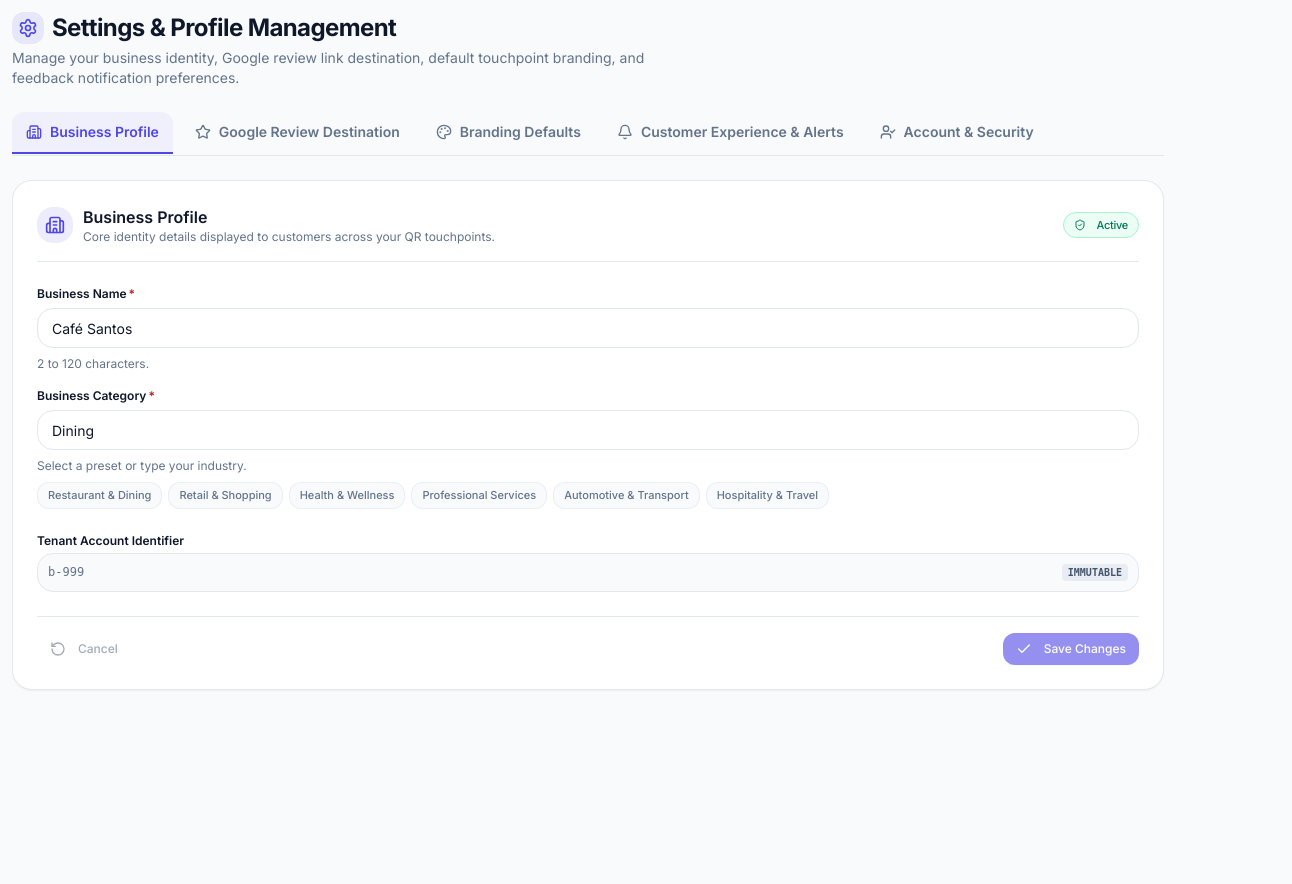
Test: SettingsContainer Component › switches between tabs and renders corresponding sections
Expected: the field showing "Café Santos" is shown, [37,308,1139,348]
# Switch to Reviews tab
Click the tab "Google Review Destination". click: click(297, 133)
box: [181,112,414,154]
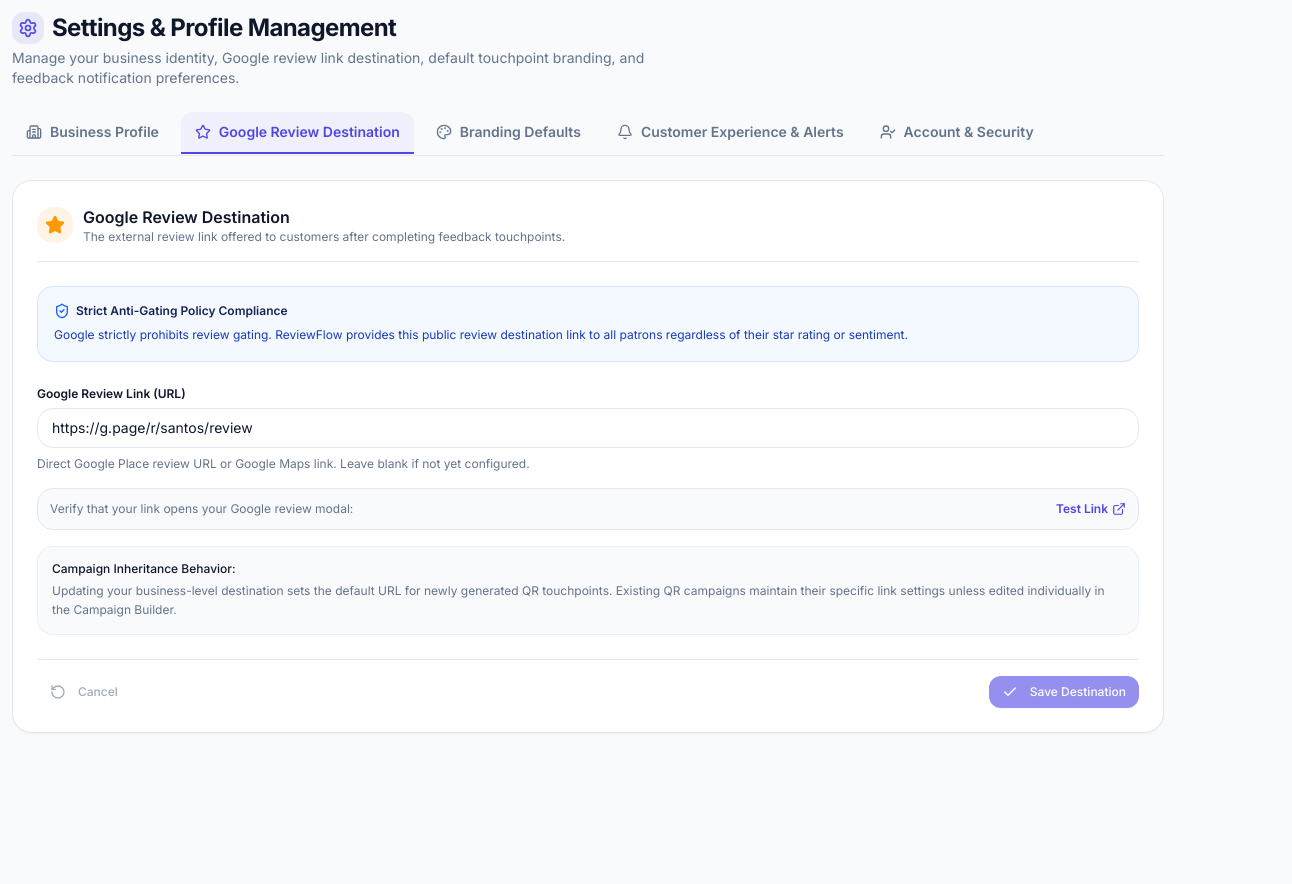
Expected: the field showing "https://g.page/r/santos/review" is shown, [37,408,1139,448]
# Switch to Branding tab
Click the tab "Branding Defaults". click: click(508, 133)
box: [422,112,595,154]
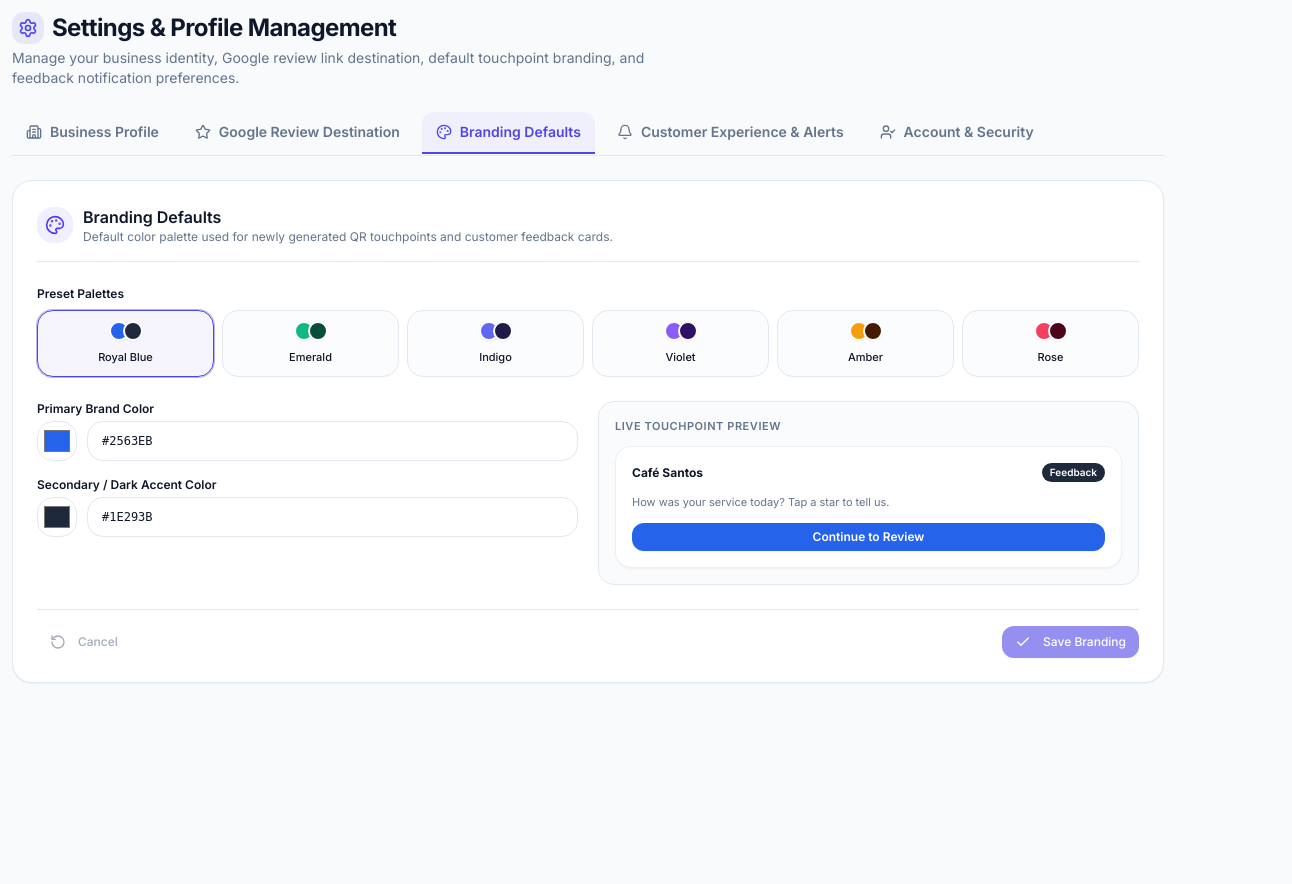
Expected: the field showing "#2563EB" below "Primary Brand Color" is shown, [87,420,578,460]
# Switch to Notifications tab
Click the tab "Customer Experience & Alerts". click: click(730, 133)
box: [603,112,858,154]
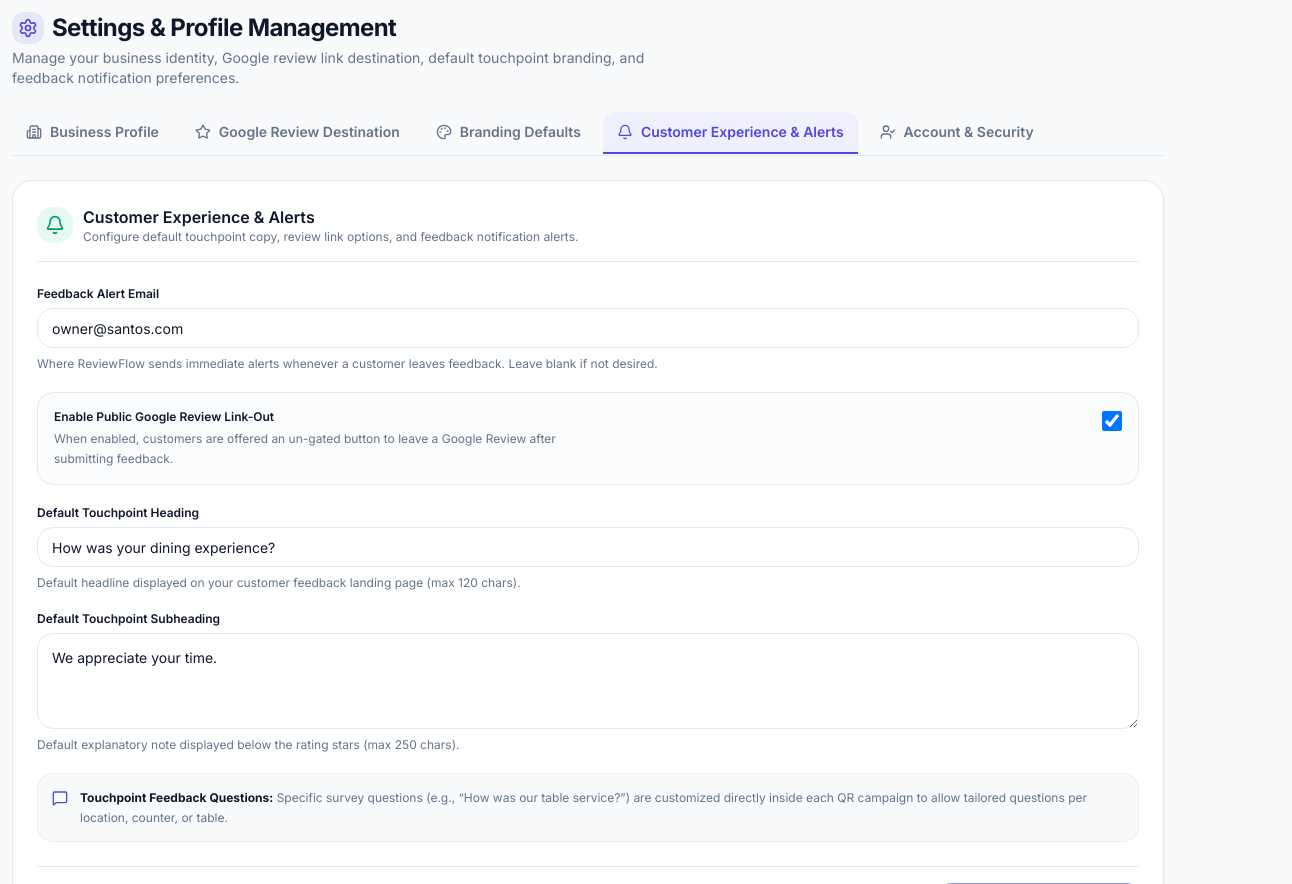
Expected: the field showing "owner@santos.com" is shown, [37,308,1139,348]
# Switch to Account tab
Click the tab "Account & Security". click: click(957, 133)
box: [866,112,1048,154]
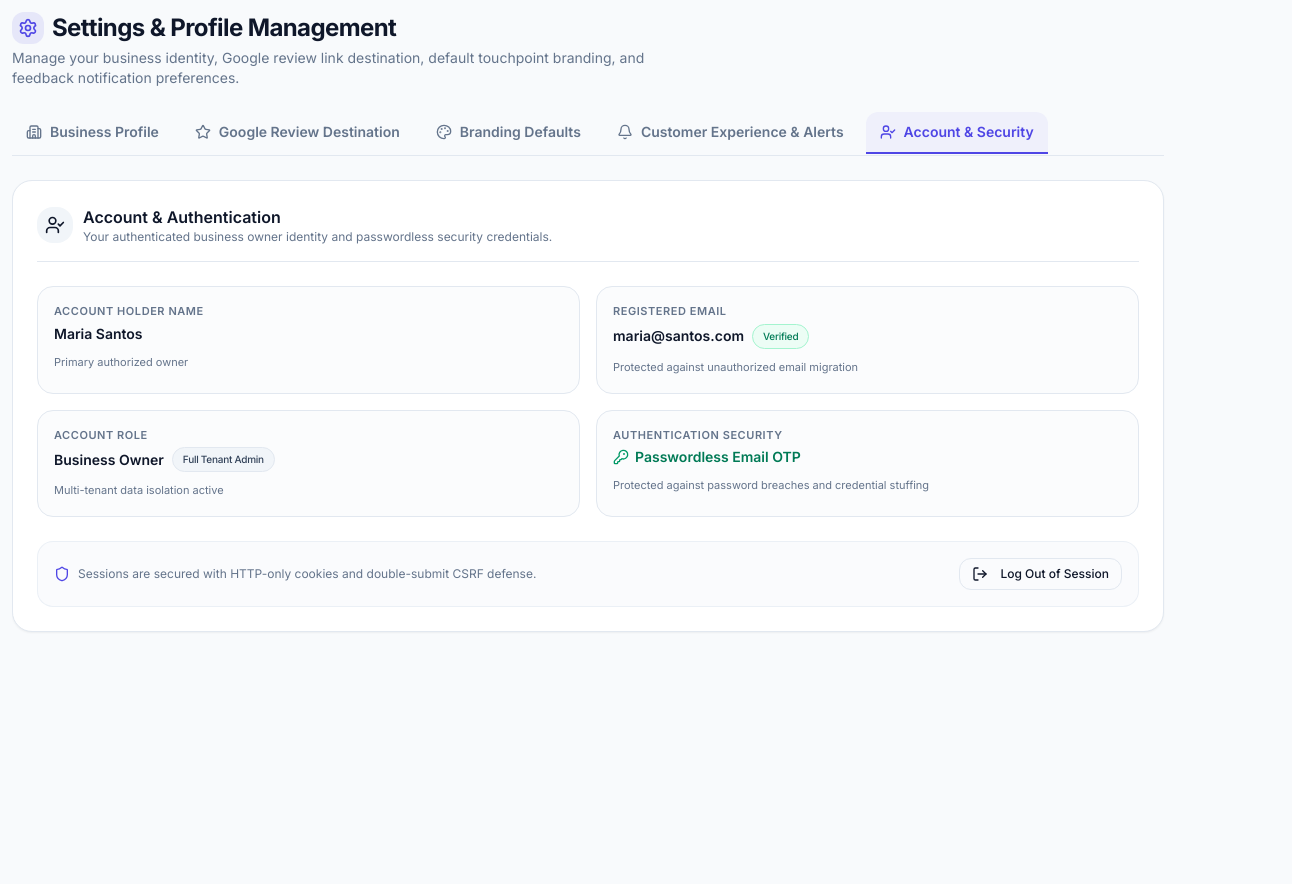
Expected: the text "Maria Santos" is shown, [54,324,143,342]
Expected: the text "maria@santos.com" is shown, [613,326,744,346]
